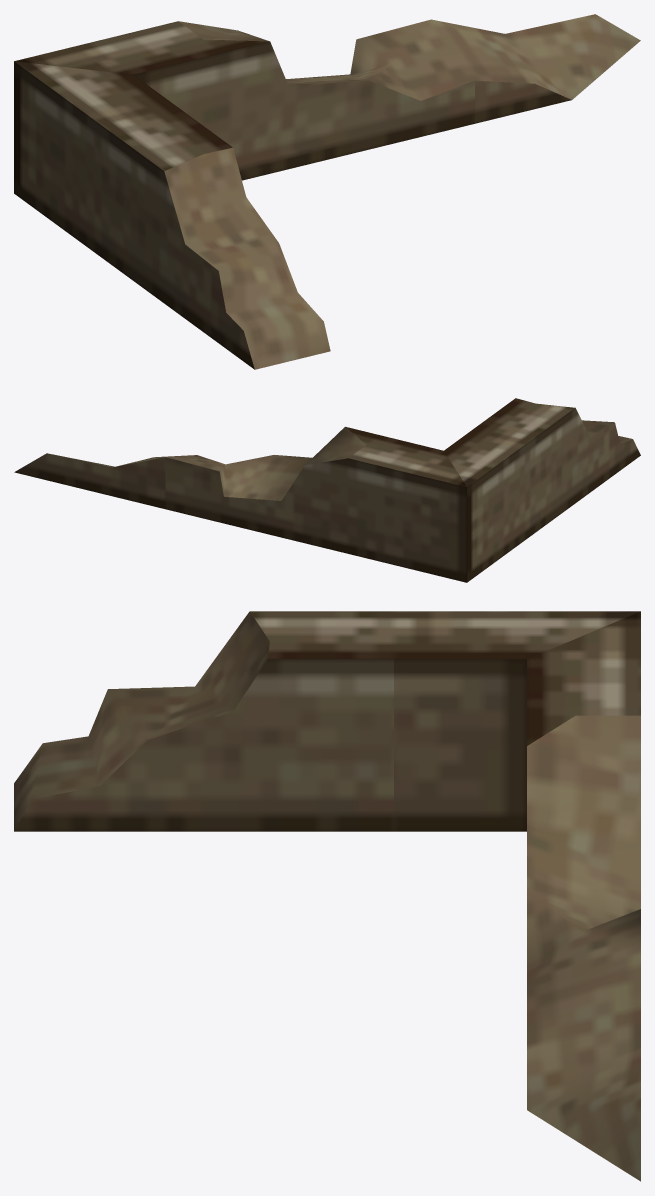
File: EnvBdgMD_Wilderness_C_Outdoor_RoofDeco_D.FBX
The picture shows the model from 3 angles, top to bottom: view 1: azimuth 30°, elevation 25°; view 2: azimuth 150°, elevation 25°; view 3: azimuth 270°, elevation 25°; orthographic projection. The views are drawn at different scales.
Parts seen in each view (by area): view 1: EnvBdgMD_Wilderness_C_Outdoor_RoofDeco_D; view 2: EnvBdgMD_Wilderness_C_Outdoor_RoofDeco_D; view 3: EnvBdgMD_Wilderness_C_Outdoor_RoofDeco_D.
Part boxes in pixels (left/top/right/bottom): EnvBdgMD_Wilderness_C_Outdoor_RoofDeco_D: left=14, top=14, right=640, bottom=369; EnvBdgMD_Wilderness_C_Outdoor_RoofDeco_D: left=14, top=398, right=640, bottom=582; EnvBdgMD_Wilderness_C_Outdoor_RoofDeco_D: left=14, top=611, right=640, bottom=1181.
Bounding box in the file's own units: 248 × 50 × 165.
Materials: 1 (1 with a texture image).
